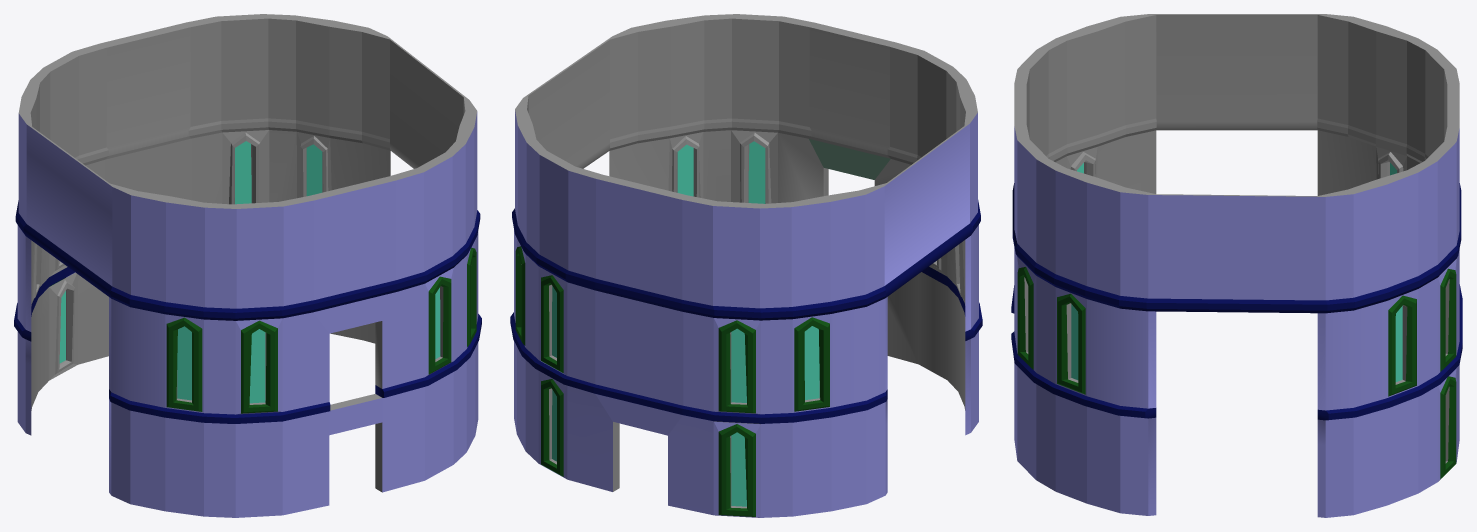
Rendered from nightwing tower FINAL.FBX.
The picture shows the model from 3 angles, left to right: view 1: azimuth 30°, elevation 25°; view 2: azimuth 150°, elevation 25°; view 3: azimuth 270°, elevation 25°; orthographic projection. The views are drawn at different scales.
Visible parts, largest first — view 1: tower; view 2: tower; view 3: tower.
Boxes of the visible parts, x1,y1,x2,y2 form: tower: [14, 14, 481, 517]; tower: [510, 14, 982, 517]; tower: [1011, 14, 1462, 517].
Bounding box in the file's own units: 15.44 × 12.42 × 15.81.
